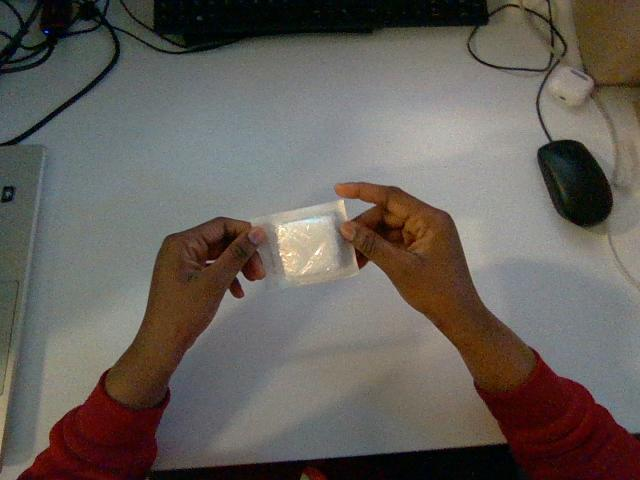gauze: (251, 200, 358, 288)
